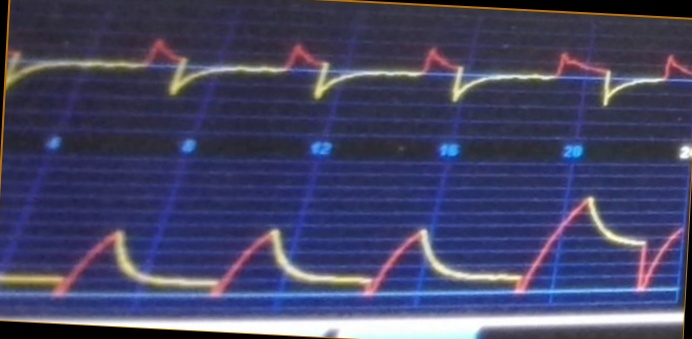Flow: (8, 31, 692, 124)
Leakage Volume: (2, 188, 682, 307)
